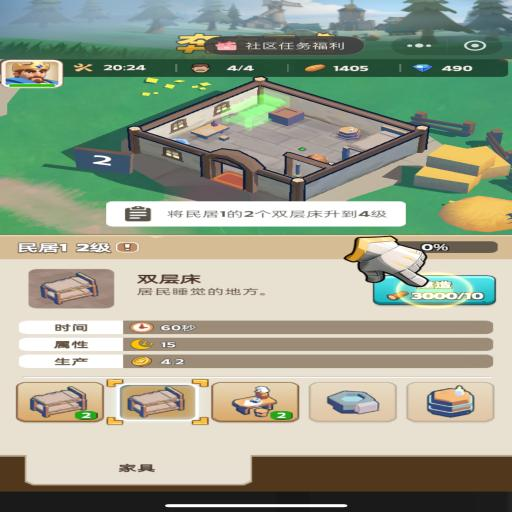newcomer_hand: (344, 236, 428, 287)
